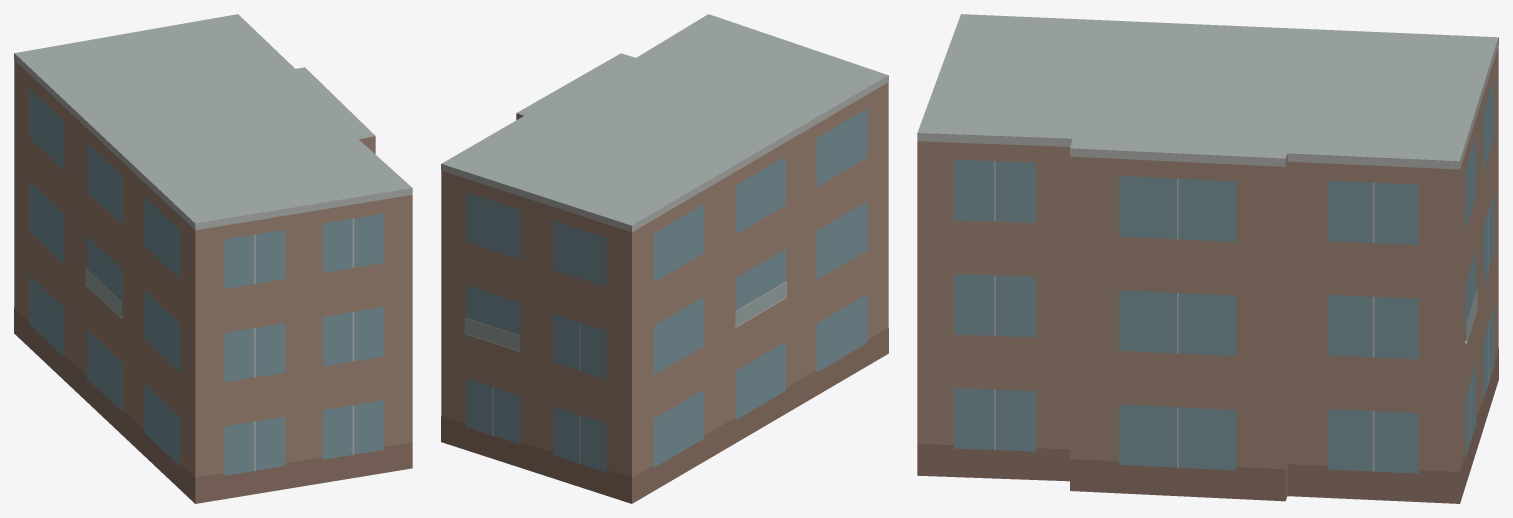
File: survey-upis-32769467.glb
3 renders of one model, left to right at view 1: azimuth 30°, elevation 25°; view 2: azimuth 150°, elevation 25°; view 3: azimuth 270°, elevation 25°, orthographic. The views are drawn at different scales.
Parts seen in each view (by area): view 1: survey-upis-32769467.tmp; view 2: survey-upis-32769467.tmp; view 3: survey-upis-32769467.tmp.
Part boxes in pixels (left/top/right/bottom): survey-upis-32769467.tmp: left=14, top=14, right=412, bottom=503; survey-upis-32769467.tmp: left=441, top=14, right=888, bottom=503; survey-upis-32769467.tmp: left=917, top=14, right=1498, bottom=503.
Bounding box in the file's own units: 9.32 × 10.1 × 15.54.
